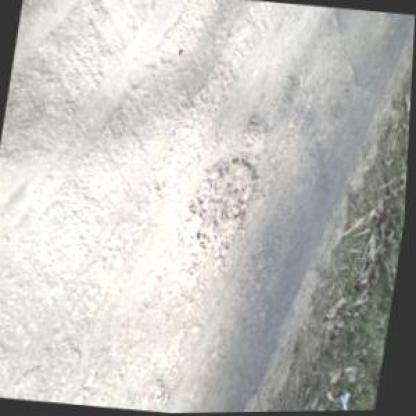pothole: (174, 151, 266, 275)
